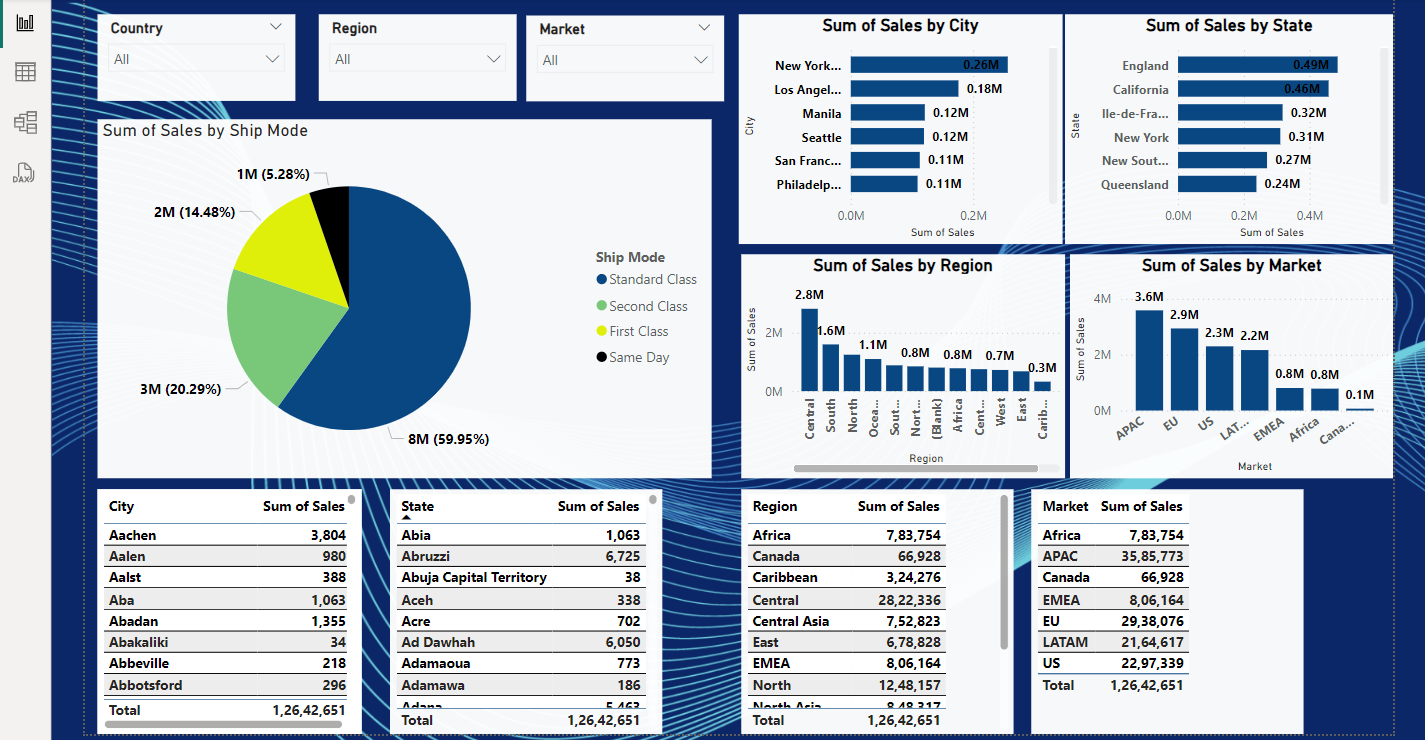

The page's visual inventory and layout, read from the dashboard file:
{"tool":"powerbi","page":{"name":"Page 1","canvas":[1280,720],"ordinal":0},"visuals":[{"type":"slicer","fields":{"Values":["Orders1.Country"]},"box":[12.3,16.5,193.5,85.1],"z":0},{"type":"slicer","fields":{"Values":["People3.Region"]},"box":[229.2,16.5,193.5,85.1],"z":1000},{"type":"pieChart","fields":{"Category":["Orders1.Ship Mode"],"Y":["Sum(Orders1.Sales)"]},"box":[12.2,118.6,600.4,351],"z":2000},{"type":"clusteredBarChart","fields":{"Category":["Orders1.City"],"Y":["Sum(Orders1.Sales)"]},"box":[639.5,15.9,316.7,225],"z":3000},{"type":"clusteredBarChart","fields":{"Y":["Sum(Orders1.Sales)"],"Category":["Orders1.State"]},"box":[958.7,15.9,321.6,225],"z":4000},{"type":"clusteredColumnChart","fields":{"Category":["People3.Region"],"Y":["Sum(Orders1.Sales)"]},"box":[642,250.7,316.7,218.9],"z":5000},{"type":"clusteredColumnChart","fields":{"Y":["Sum(Orders1.Sales)"],"Category":["Orders1.Market"]},"box":[963.6,250.7,316.7,218.9],"z":6000},{"type":"tableEx","fields":{"Values":["Orders1.City","Sum(Orders1.Sales)"]},"box":[12.2,480.6,258,239.7],"z":7000},{"type":"tableEx","fields":{"Values":["Orders1.City","Sum(Orders1.Sales)"]},"box":[12.2,480.3,258,239.7],"z":8000},{"type":"tableEx","fields":{"Values":["Orders1.State","Sum(Orders1.Sales)"]},"box":[272.7,480.6,266.6,239.7],"z":9000},{"type":"tableEx","fields":{"Values":["Orders1.Region","Sum(Orders1.Sales)"]},"box":[549.1,480.6,266.6,239.7],"z":10000},{"type":"tableEx","fields":{"Values":["Orders1.Market","Sum(Orders1.Sales)"]},"box":[825.4,480.6,266.6,239.7],"z":11000},{"type":"slicer","fields":{"Values":["Orders1.Market"]},"box":[431.7,17.1,193.2,84.4],"z":12000}]}

Visuals, with their boxes in screenshot pixels (x1, y1, x2, y2):
slicer - Orders1.Country: (102,13,297,99)
slicer - People3.Region: (321,13,517,99)
pieChart - Orders1.Ship Mode x Sum(Orders1.Sales): (101,116,709,471)
clusteredBarChart - Orders1.City x Sum(Orders1.Sales): (736,12,1056,240)
clusteredBarChart - Sum(Orders1.Sales) x Orders1.State: (1059,12,1384,240)
clusteredColumnChart - People3.Region x Sum(Orders1.Sales): (738,250,1059,471)
clusteredColumnChart - Sum(Orders1.Sales) x Orders1.Market: (1064,250,1384,471)
tableEx - Orders1.City x Sum(Orders1.Sales): (101,482,362,725)
tableEx - Orders1.City x Sum(Orders1.Sales): (101,482,362,725)
tableEx - Orders1.State x Sum(Orders1.Sales): (365,482,635,725)
tableEx - Orders1.Region x Sum(Orders1.Sales): (644,482,914,725)
tableEx - Orders1.Market x Sum(Orders1.Sales): (924,482,1194,725)
slicer - Orders1.Market: (526,14,721,99)
